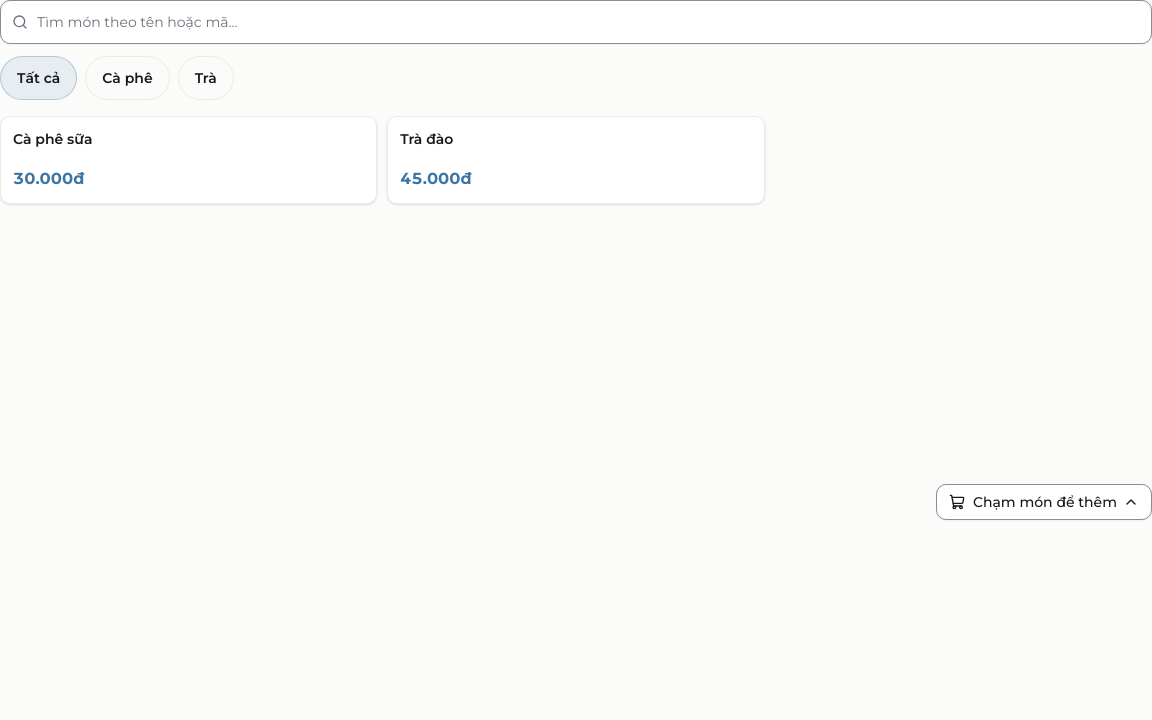
it: PosSell — điện thoại › thêm món → thanh đáy 'N món · Tổng' + Thanh toán; chạm mở giỏ trong bảng trượt (cùng PosCartPanel)
Click the button "Cà phê sữa 30.000đ": coordinates (53, 139) [0,116,377,204]
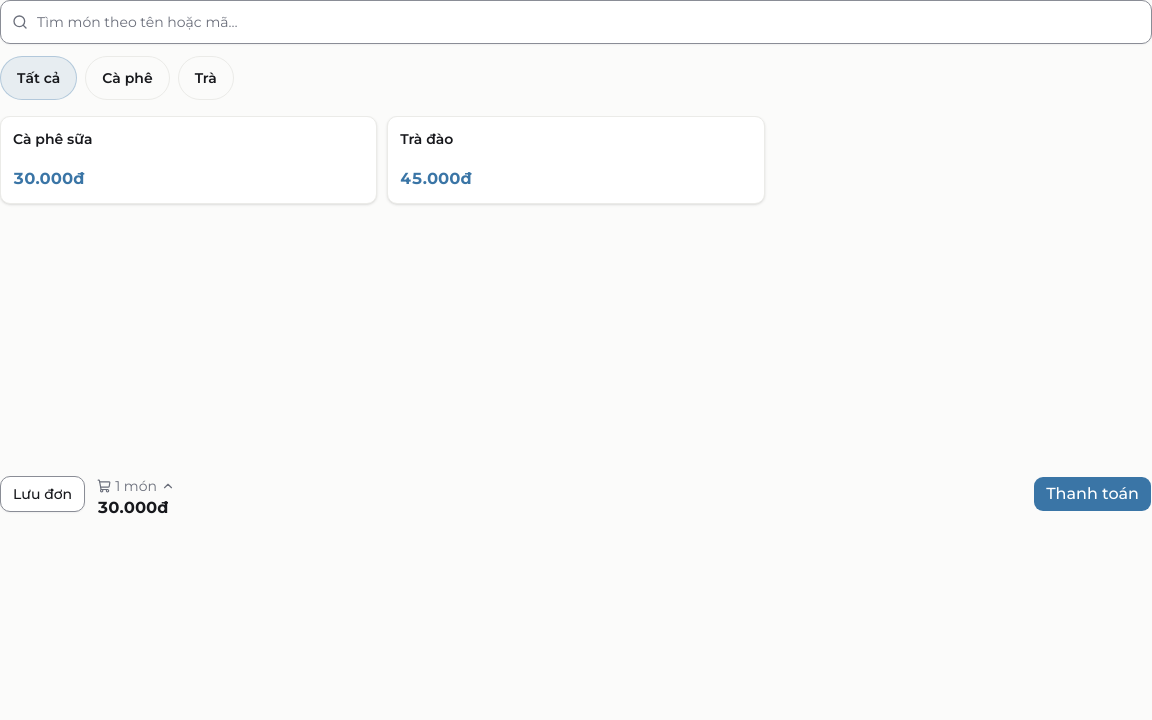
Check: the button with aria-label "Mở giỏ hàng, 1 món" shows "30.000đ"
Check: the button "Thanh toán" is enabled, box [1033,476,1151,512]
Click the button with aria-label "Mở giỏ hàng, 1 món": coordinates (139, 486) [93,476,1025,520]
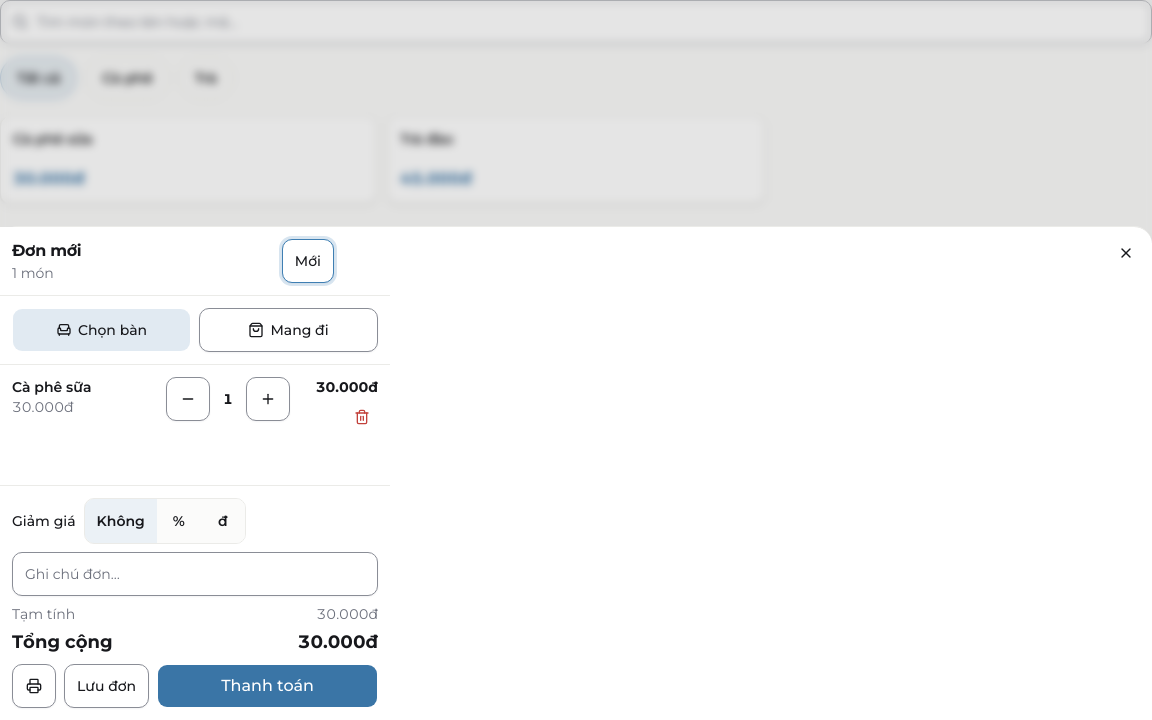
Check: the element named "Giỏ hàng" shows "Cà phê sữa", box [12,377,158,417]
Check: the button "Mới" is shown, box [282,239,334,283]
